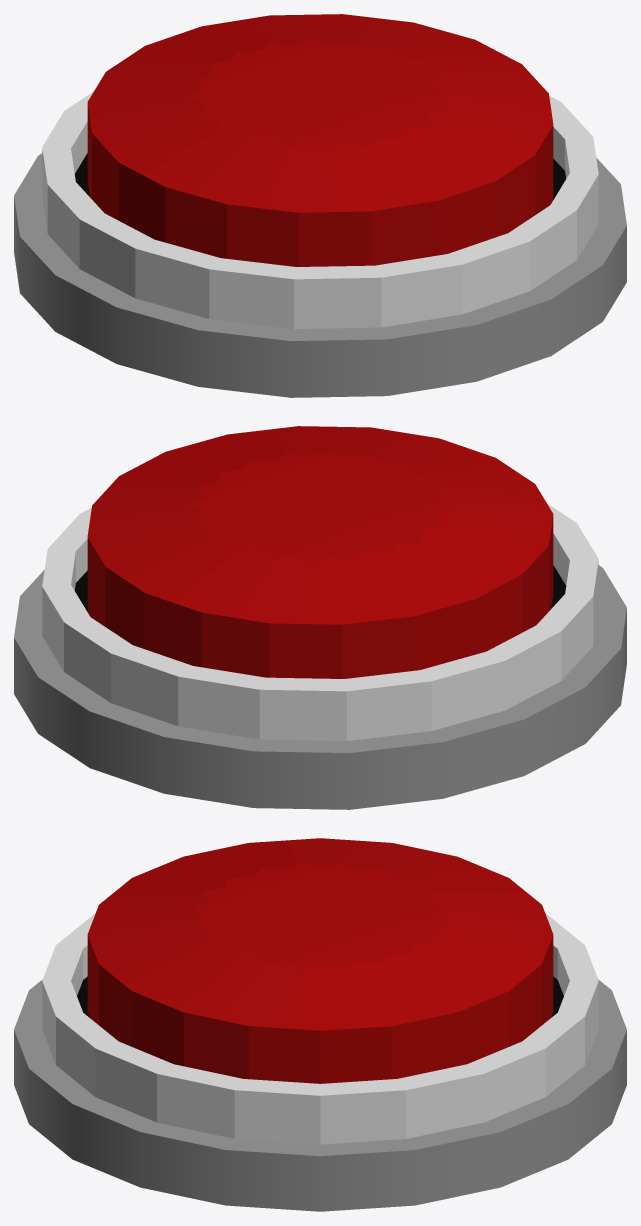
Rendered from teste_botão_redondo_anim1.fbx.
The picture shows the model from 3 angles, top to bottom: view 1: azimuth 30°, elevation 25°; view 2: azimuth 150°, elevation 25°; view 3: azimuth 270°, elevation 25°; orthographic projection. The views are drawn at different scales.
Parts seen in each view (by area): view 1: pCylinder1; view 2: pCylinder1; view 3: pCylinder1.
Boxes of the visible parts, x1,y1,x2,y2 form: pCylinder1: (14, 14, 626, 397); pCylinder1: (14, 426, 626, 809); pCylinder1: (14, 838, 626, 1211).
Size of the model in its own units: 5.59 by 1.78 by 5.72.
